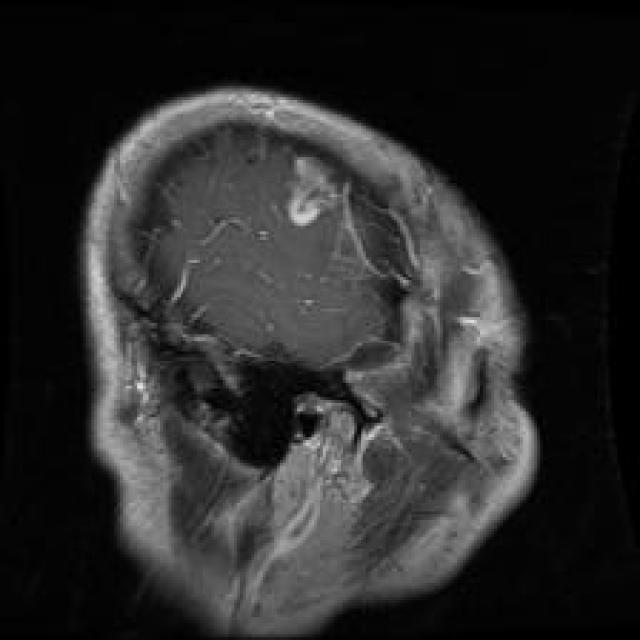glioma_tumor: (271, 140, 365, 240)
